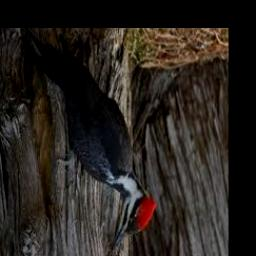Woodpecker: (26, 31, 158, 254)
